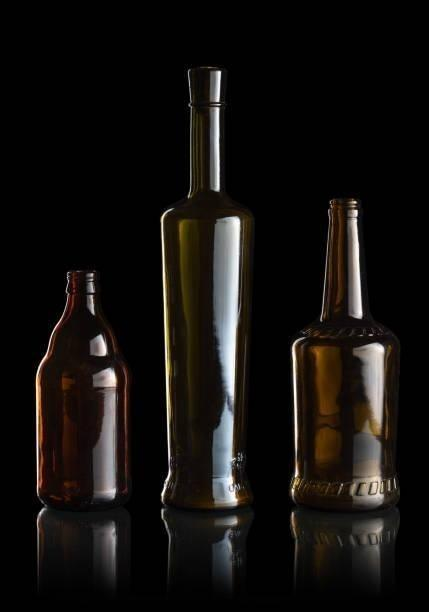bottle-glass: (154, 63, 262, 515), (285, 193, 404, 513), (32, 264, 136, 515)
